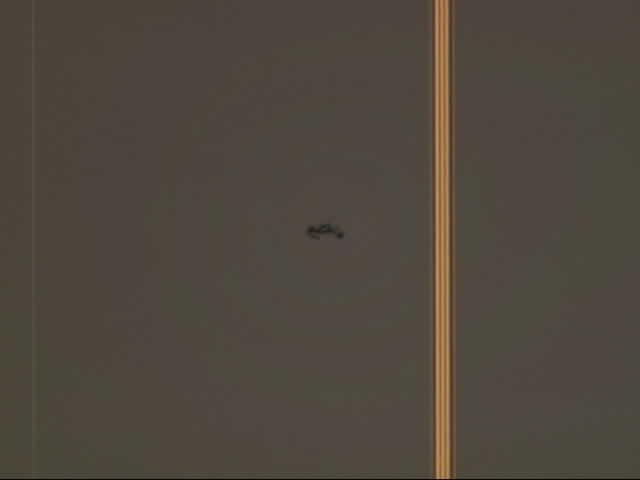PO CONTAMINATION: (301, 213, 349, 245)
